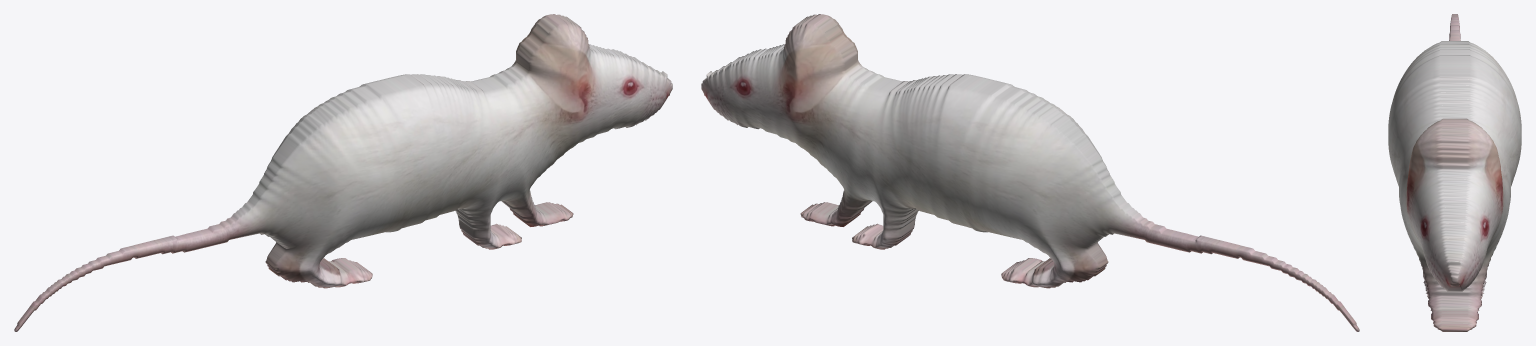
Rendered from albino-mouse.glb.
3 views of the same model, side by side, from view 1: azimuth 30°, elevation 25°; view 2: azimuth 150°, elevation 25°; view 3: azimuth 270°, elevation 25° (orthographic). The views are drawn at different scales.
Parts seen in each view (by area): view 1: Mouse; view 2: Mouse; view 3: Mouse.
Boxes of the visible parts, x1,y1,x2,y2 form: Mouse: (14, 14, 672, 331); Mouse: (701, 14, 1359, 331); Mouse: (1388, 14, 1521, 331).
Bounding box in the file's own units: 0.1353 × 0.0409 × 0.0227.
Materials: 1 (1 with a texture image).
